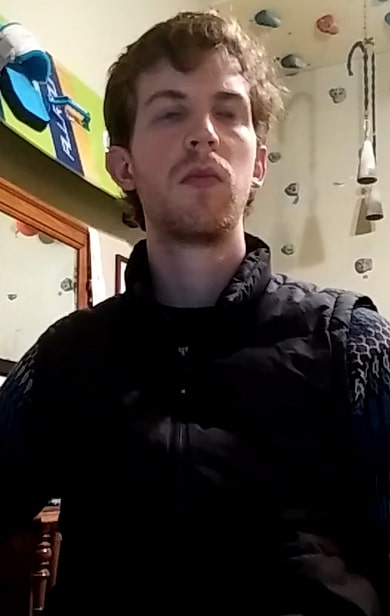Half Asleep: (137, 93, 254, 138)
